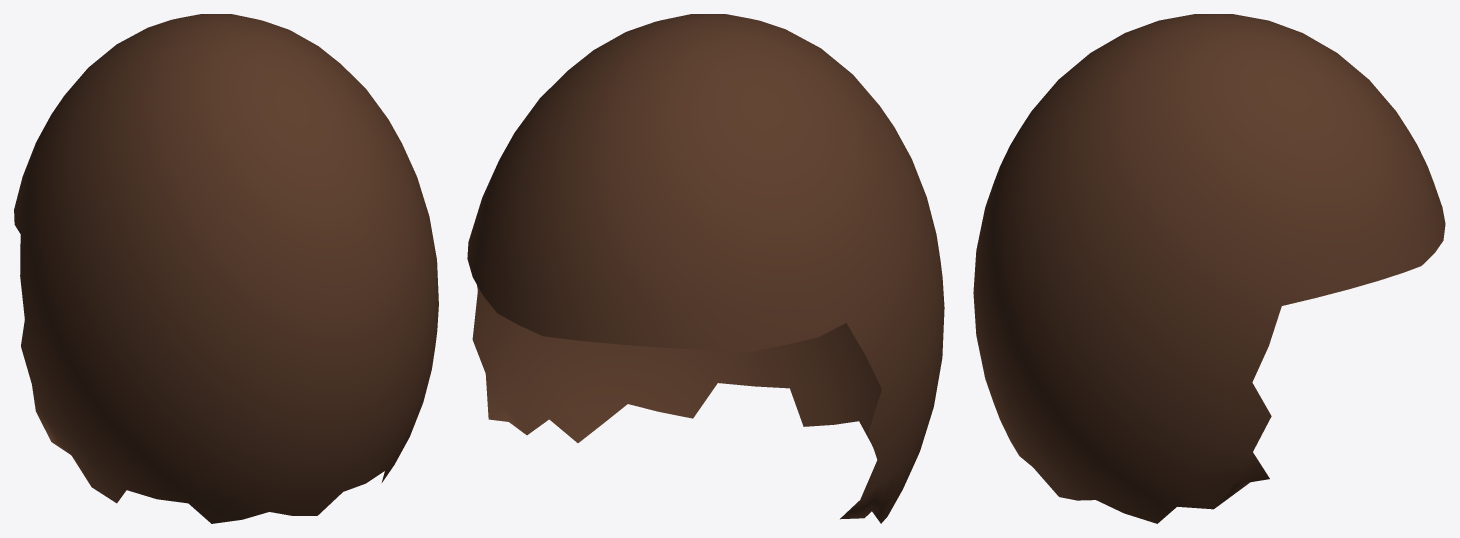
File: human_hair.glb
3 views of the same model, side by side, from view 1: azimuth 30°, elevation 25°; view 2: azimuth 150°, elevation 25°; view 3: azimuth 270°, elevation 25° (orthographic). The views are drawn at different scales.
Visible parts, largest first — view 1: hair; view 2: hair; view 3: hair.
Boxes of the visible parts, box(x1,y1,x2,y2) form: hair: box(14, 14, 438, 523); hair: box(467, 14, 944, 523); hair: box(973, 14, 1445, 523).
Size of the model in its own units: 0.232 by 0.2551 by 0.2553.
